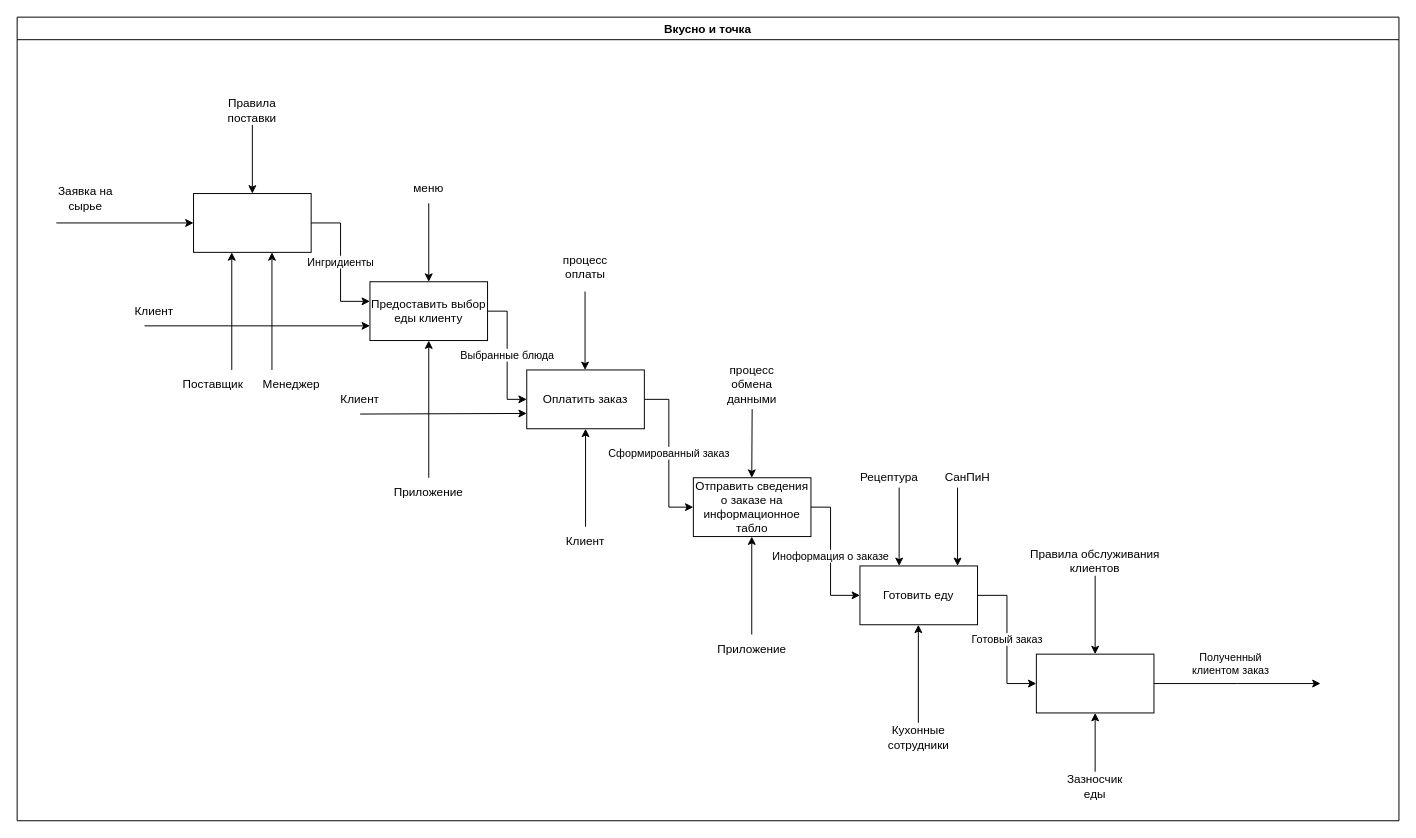
Image size: 1416x838. Some labels were removed from this diagram. Here are the shapes that lost their labels. From the top down, the centre of each, then its label:
At (252,222): "Поставить сырье".
At (1094,683): "Подать заказ клиенту".
